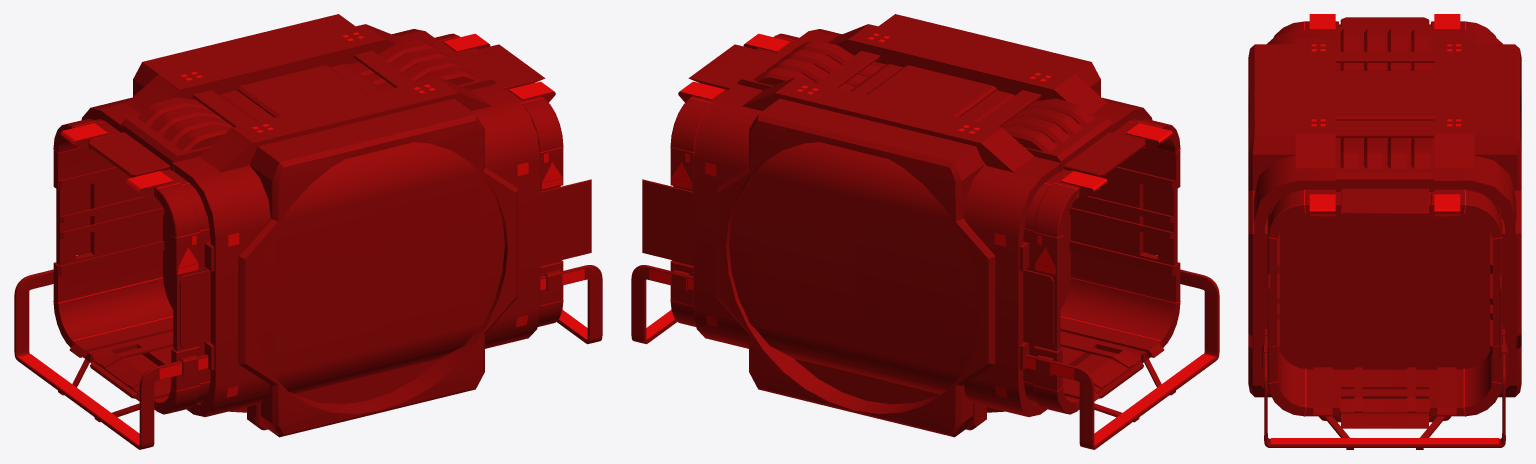
File: ConveyorAttachmentSplitter_static.gltf
3 renders of one model, left to right at view 1: azimuth 30°, elevation 25°; view 2: azimuth 150°, elevation 25°; view 3: azimuth 270°, elevation 25°, orthographic. The views are drawn at different scales.
Visible parts, largest first — view 1: ConveyorAttachmentSplitter_static; view 2: ConveyorAttachmentSplitter_static; view 3: ConveyorAttachmentSplitter_static.
Boxes of the visible parts, box(x1,y1,x2,y2) form: ConveyorAttachmentSplitter_static: box(14, 14, 602, 449); ConveyorAttachmentSplitter_static: box(631, 14, 1219, 449); ConveyorAttachmentSplitter_static: box(1248, 14, 1521, 449).
Bounding box in the file's own units: 4.51 × 2.62 × 2.43.
